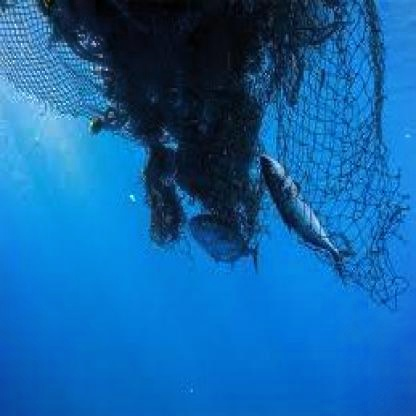net: (2, 2, 392, 257)
